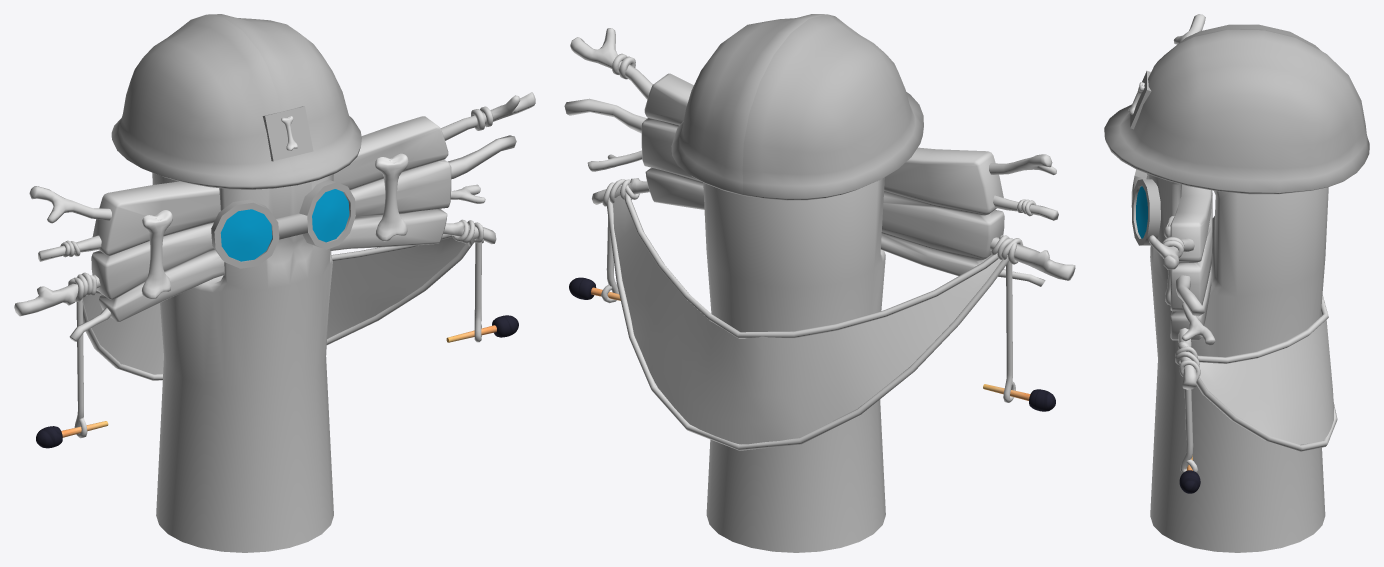
File: Totem.fbx
3 views of the same model, side by side, from view 1: azimuth 30°, elevation 25°; view 2: azimuth 150°, elevation 25°; view 3: azimuth 270°, elevation 25° (orthographic). The views are drawn at different scales.
Visible parts, largest first — view 1: FULL.skwtchfab, Helmet, Glasses, Bone.001, Bone, Stylized_torch_burned.001, Stylized_torch_burned; view 2: FULL.skwtchfab, Helmet, Stylized_torch_burned, Stylized_torch_burned.001; view 3: FULL.skwtchfab, Helmet, Glasses, Stylized_torch_burned.001.
Boxes of the visible parts, x1,y1,x2,y2 form: FULL.skwtchfab: (14,92,535,552); Helmet: (111,14,361,189); Glasses: (211,179,355,268); Bone.001: (375,153,408,241); Bone: (142,210,172,298); Stylized_torch_burned.001: (446,315,518,342); Stylized_torch_burned: (36,421,108,448); FULL.skwtchfab: (564,28,1075,552); Helmet: (671,14,923,200); Stylized_torch_burned: (983,384,1055,411); Stylized_torch_burned.001: (569,277,620,300); FULL.skwtchfab: (1147,14,1337,552); Helmet: (1104,24,1369,194); Glasses: (1131,169,1160,245); Stylized_torch_burned.001: (1179,455,1200,493).
Bounding box in the file's own units: 588 × 544 × 271.
